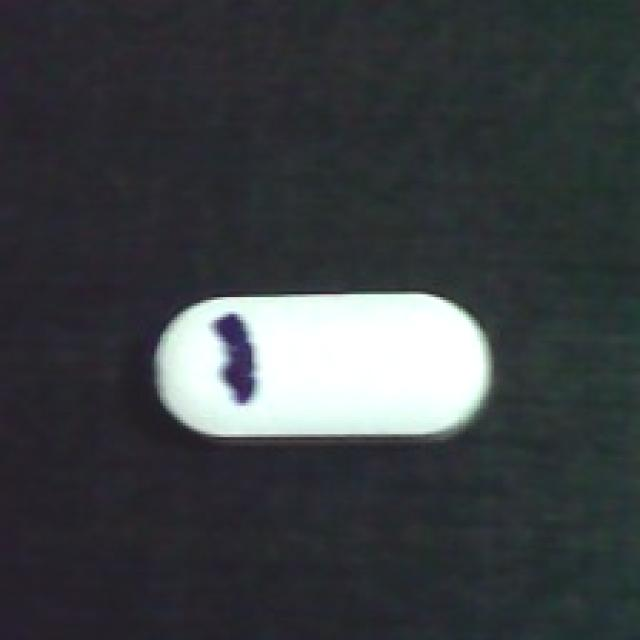defected: (146, 283, 497, 451)
